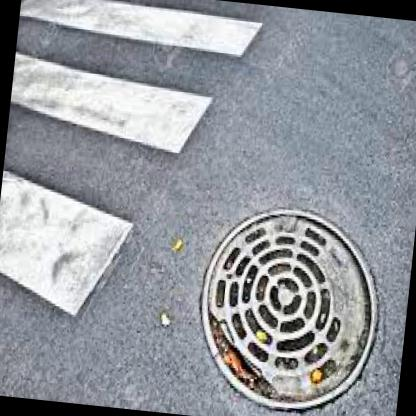manholes: (156, 168, 410, 416)
